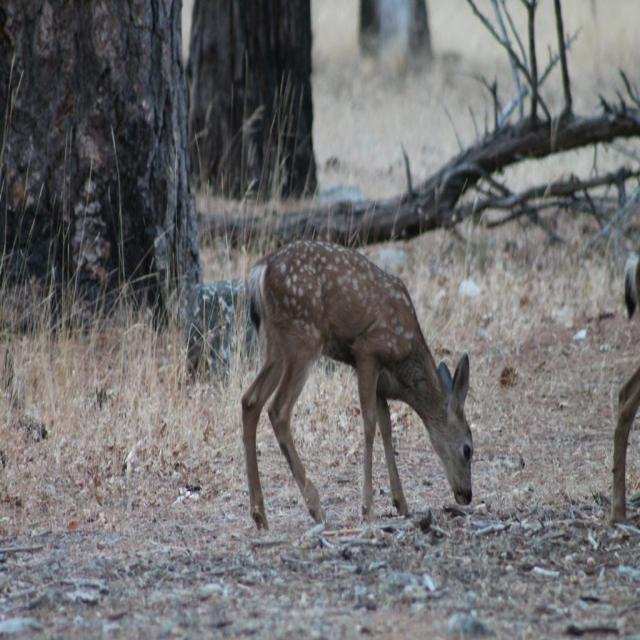Deer: (243, 239, 475, 537)
